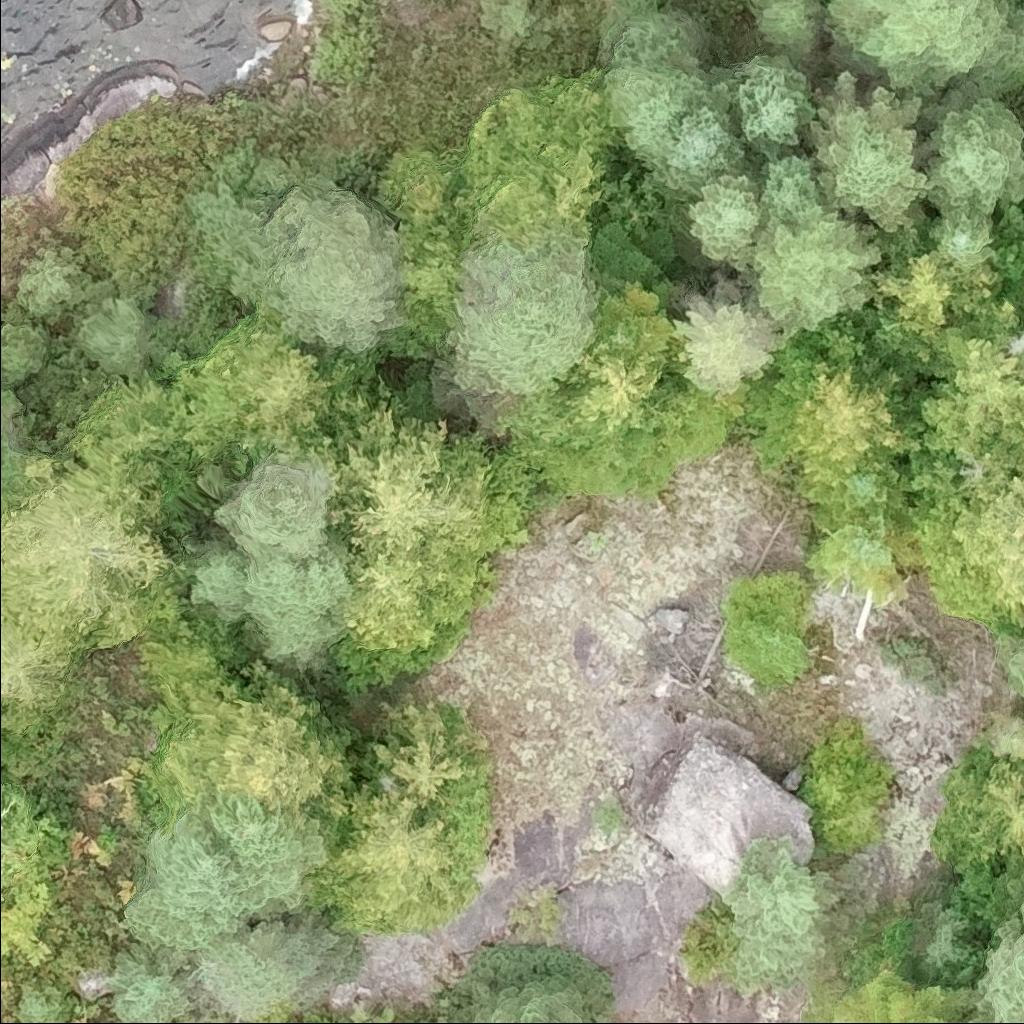crown: (189, 181, 406, 354), (538, 284, 719, 473), (124, 792, 329, 950), (0, 489, 177, 649), (167, 682, 353, 826), (450, 227, 595, 396), (336, 409, 493, 563), (467, 84, 595, 255), (183, 312, 332, 455), (811, 71, 928, 234), (827, 0, 1015, 99), (605, 72, 750, 200), (337, 792, 466, 933), (200, 909, 359, 1021), (753, 209, 876, 338), (789, 361, 905, 496), (728, 848, 829, 992), (242, 546, 352, 672), (0, 781, 72, 966), (214, 460, 331, 564), (924, 97, 1023, 215), (376, 703, 487, 807), (948, 471, 1023, 621), (932, 753, 1023, 872), (800, 738, 887, 857), (676, 303, 782, 397), (346, 554, 445, 652), (937, 337, 1023, 441), (0, 604, 70, 729), (869, 249, 963, 340), (602, 0, 710, 77), (807, 519, 907, 602), (808, 455, 911, 533), (731, 52, 816, 146), (688, 175, 767, 271), (379, 155, 448, 250), (113, 941, 191, 1023), (471, 976, 593, 1023), (761, 157, 834, 227), (929, 205, 995, 276), (984, 917, 1023, 1023), (0, 386, 33, 504), (750, 0, 824, 52), (746, 616, 807, 679), (992, 629, 1023, 695)
